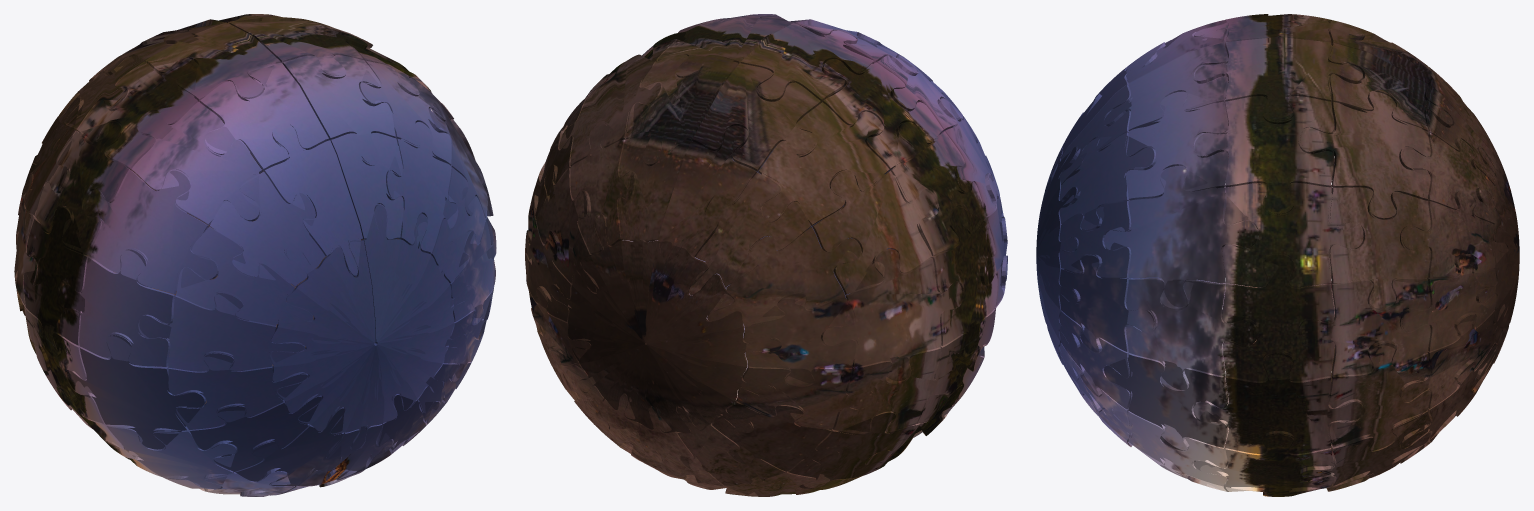
The model's file is medium-puzzle-v8.fbx.
The picture shows the model from 3 angles, left to right: view 1: azimuth 30°, elevation 25°; view 2: azimuth 150°, elevation 25°; view 3: azimuth 270°, elevation 25°; orthographic projection.
Parts seen in each view (by area): view 1: Puzzle-Medium.002, Puzzle-Medium.016, Puzzle-Medium.006, Puzzle-Medium.019, Puzzle-Medium.005, Puzzle-Medium.026, Puzzle-Medium.004, Puzzle-Medium.018, Puzzle-Medium.008, Puzzle-Medium.001, Puzzle-Medium.020, Puzzle-Medium.015 (+26 smaller); view 2: Puzzle-Medium.003, Puzzle-Medium.021, Puzzle-Medium.014, Puzzle-Medium.010, Puzzle-Medium.013, Puzzle-Medium.009, Puzzle-Medium.012, Puzzle-Medium.015, Puzzle-Medium.008, Puzzle-Medium.022, Puzzle-Medium.011, Puzzle-Medium.076 (+26 smaller); view 3: Puzzle-Medium.064, Puzzle-Medium.060, Puzzle-Medium.065, Puzzle-Medium.070, Puzzle-Medium.061, Puzzle-Medium.055, Puzzle-Medium.069, Puzzle-Medium.066, Puzzle-Medium.059, Puzzle-Medium.071, Puzzle-Medium.075, Puzzle-Medium.054 (+25 smaller).
Part boxes in pixels (left/top/right/bottom): Puzzle-Medium.002: left=270, top=204, right=470, bottom=449; Puzzle-Medium.016: left=83, top=170, right=218, bottom=294; Puzzle-Medium.006: left=132, top=101, right=262, bottom=225; Puzzle-Medium.019: left=58, top=249, right=175, bottom=366; Puzzle-Medium.005: left=200, top=62, right=328, bottom=170; Puzzle-Medium.026: left=67, top=335, right=206, bottom=449; Puzzle-Medium.004: left=210, top=171, right=325, bottom=286; Puzzle-Medium.018: left=138, top=293, right=305, bottom=371; Puzzle-Medium.008: left=78, top=58, right=198, bottom=169; Puzzle-Medium.001: left=264, top=124, right=362, bottom=276; Puzzle-Medium.020: left=23, top=206, right=89, bottom=356; Puzzle-Medium.015: left=35, top=121, right=131, bottom=255; Puzzle-Medium.003: left=551, top=206, right=779, bottom=433; Puzzle-Medium.021: left=821, top=249, right=962, bottom=383; Puzzle-Medium.014: left=812, top=171, right=937, bottom=294; Puzzle-Medium.010: left=758, top=102, right=889, bottom=225; Puzzle-Medium.013: left=707, top=227, right=860, bottom=325; Puzzle-Medium.009: left=692, top=63, right=820, bottom=171; Puzzle-Medium.012: left=689, top=172, right=810, bottom=295; Puzzle-Medium.015: left=890, top=122, right=986, bottom=255; Puzzle-Medium.008: left=823, top=59, right=943, bottom=170; Puzzle-Medium.022: left=743, top=293, right=856, bottom=386; Puzzle-Medium.011: left=658, top=125, right=756, bottom=272; Puzzle-Medium.076: left=625, top=55, right=738, bottom=166; Puzzle-Medium.064: left=1104, top=166, right=1258, bottom=308; Puzzle-Medium.060: left=1222, top=253, right=1334, bottom=381; Puzzle-Medium.065: left=1222, top=183, right=1363, bottom=287; Puzzle-Medium.070: left=1193, top=96, right=1334, bottom=214; Puzzle-Medium.061: left=1126, top=278, right=1258, bottom=390; Puzzle-Medium.055: left=1194, top=353, right=1362, bottom=453; Puzzle-Medium.069: left=1300, top=92, right=1430, bottom=219; Puzzle-Medium.066: left=1329, top=187, right=1430, bottom=308; Puzzle-Medium.059: left=1300, top=278, right=1430, bottom=375; Puzzle-Medium.071: left=1126, top=91, right=1228, bottom=200; Puzzle-Medium.075: left=1194, top=37, right=1362, bottom=120; Puzzle-Medium.054: left=1104, top=353, right=1228, bottom=450.
Bounding box in the file's own units: 0.6332 × 0.6346 × 0.6342.
